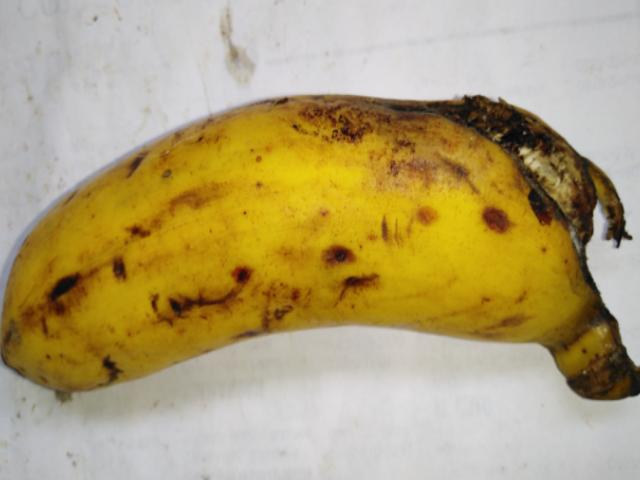ripe: (6, 79, 462, 421)
rotten: (366, 34, 639, 294)
